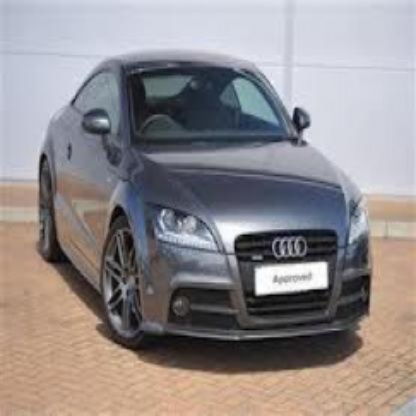Vehicle: (39, 48, 378, 359)
